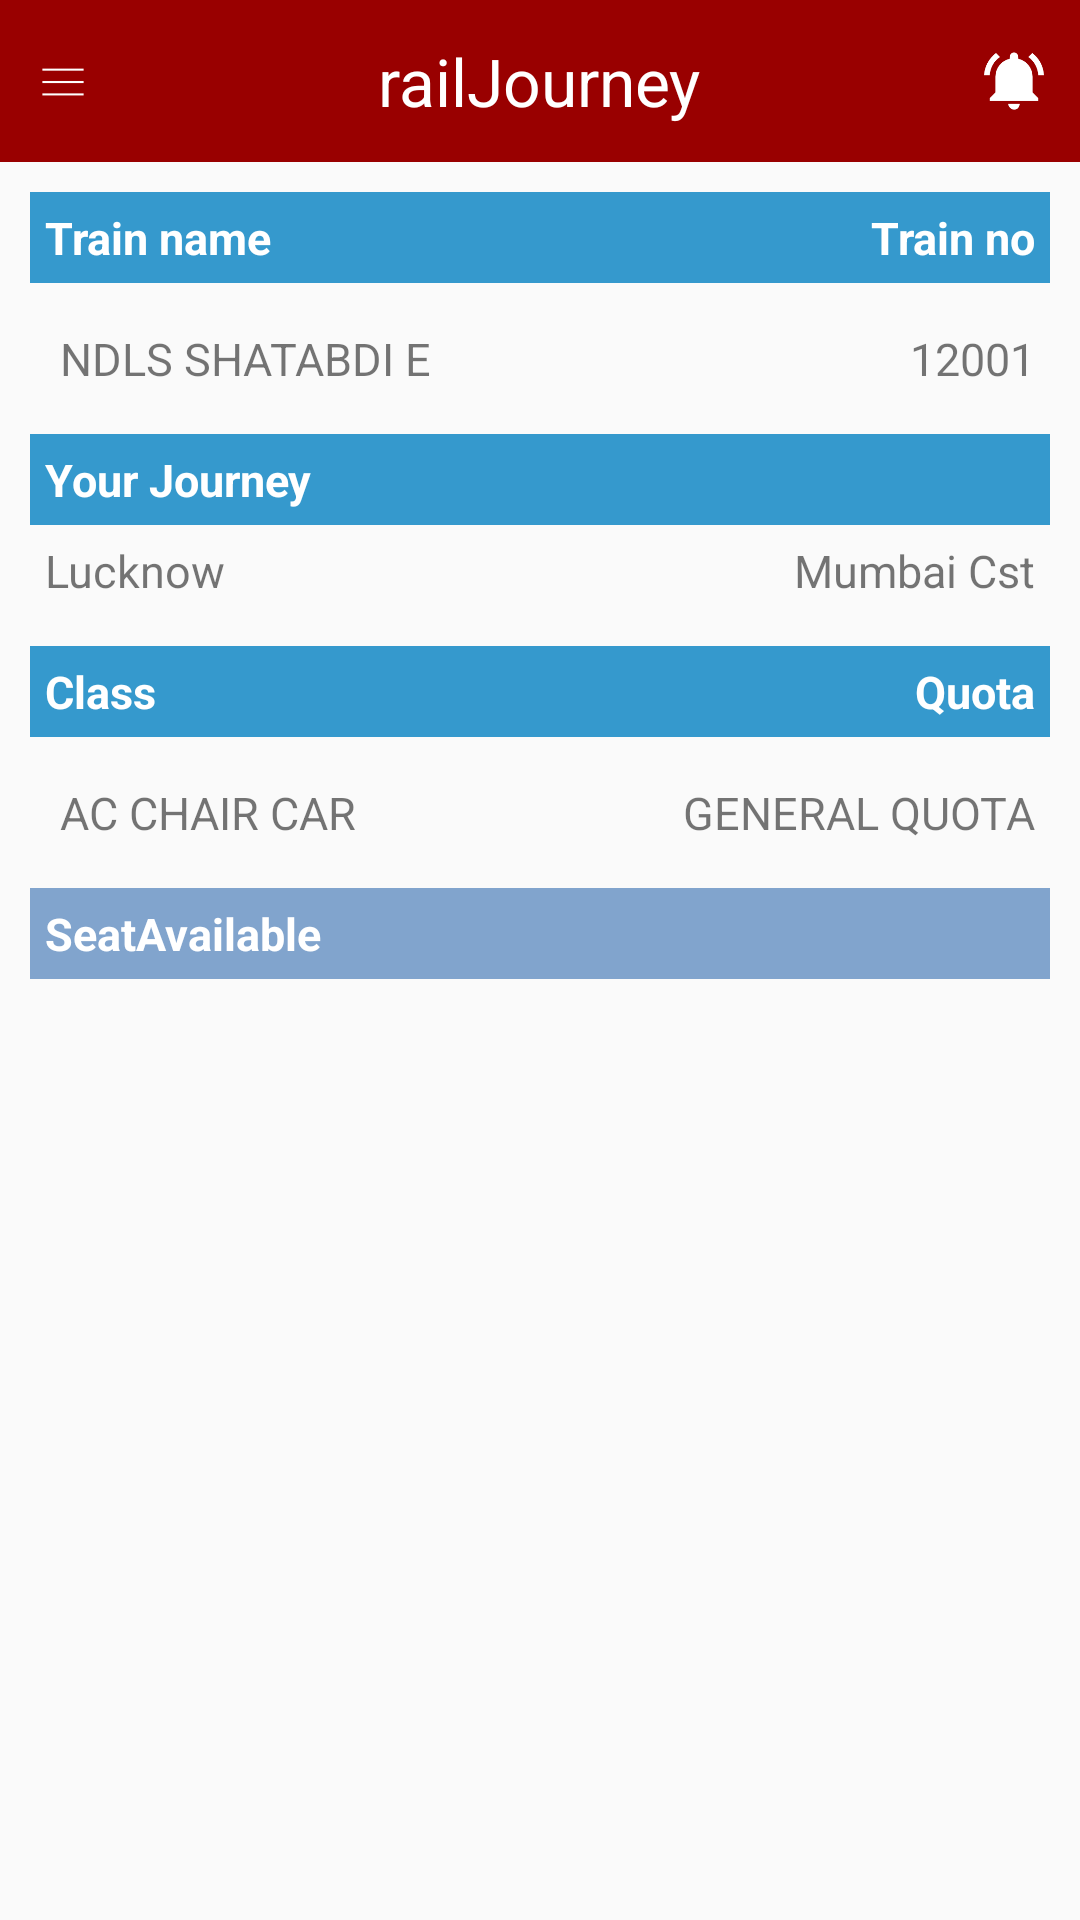

Named icons in this screenshot (1080*1920) and their bounding boxes, (x1, y1, x2, y2):
alarm: (984, 52, 1044, 110)
menu: (42, 68, 84, 96)
